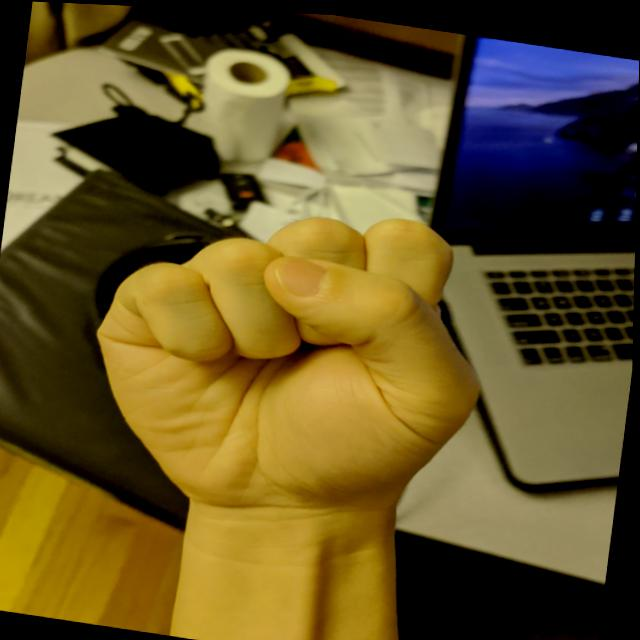S: (66, 165, 514, 552)
